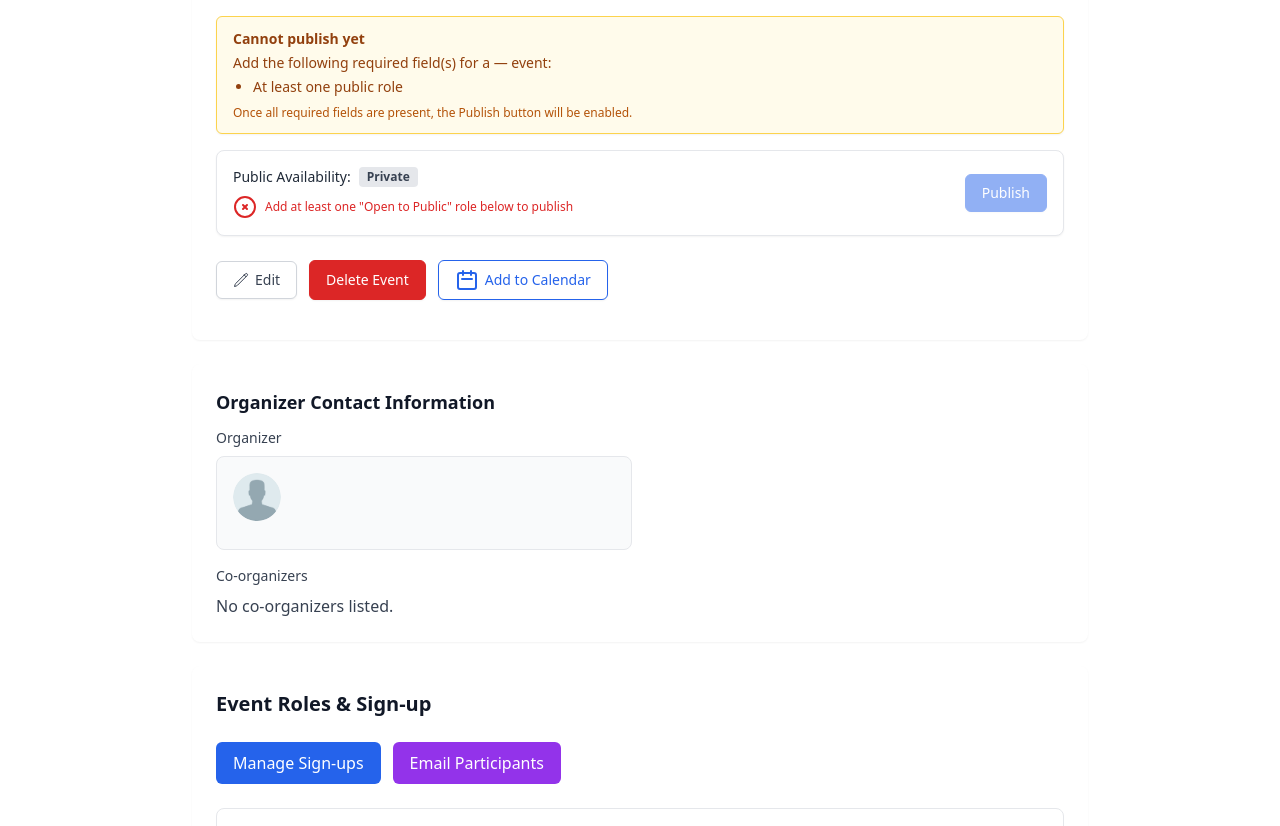
Test: EventDetail - Admin guest actions › edits a guest and updates the displayed name
The width and height of the screenshot is (1280, 826).
Click the button "Manage Sign-ups" at (298, 763), box x1=216 y1=742 x2=381 y2=784
(page scrolled)
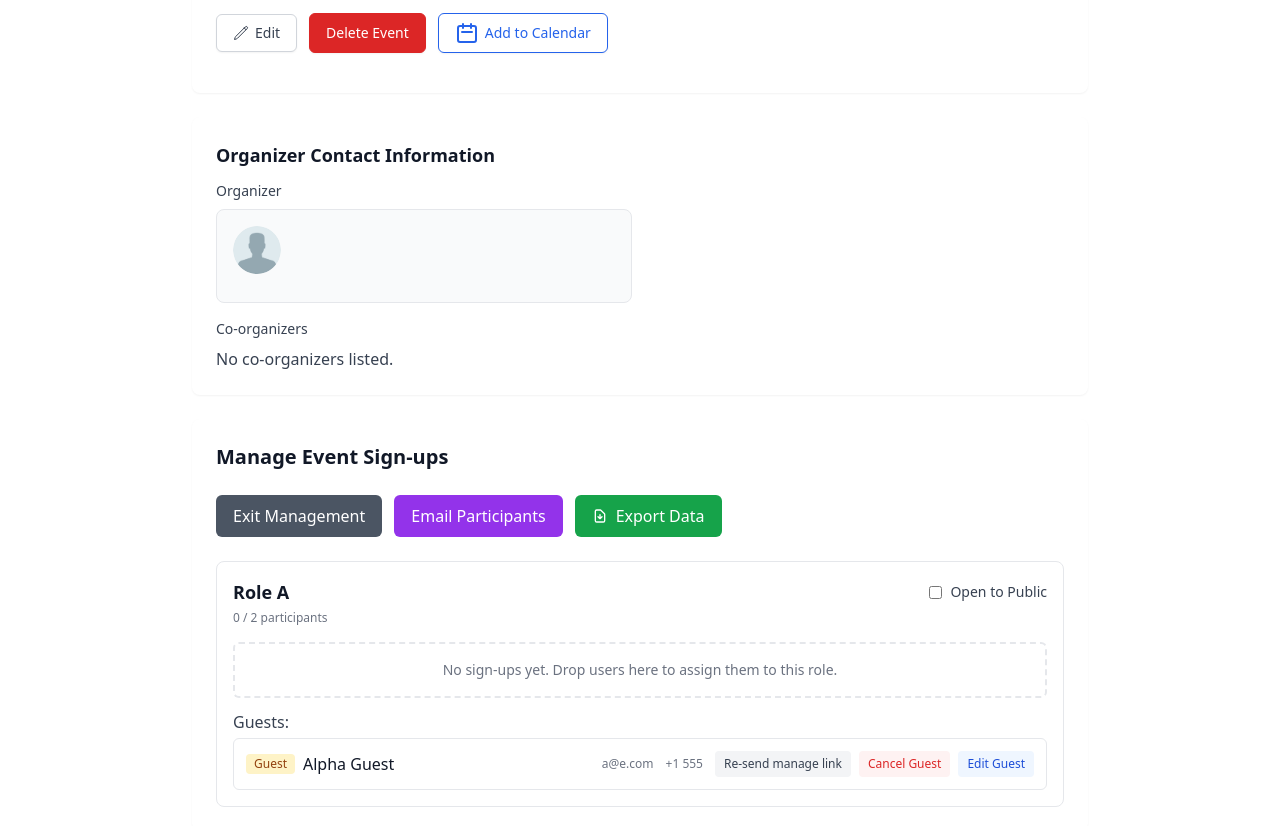
Check: the heading "Guests:" is shown, box x1=233 y1=711 x2=289 y2=733
Check: the text "Alpha Guest" is shown, box x1=303 y1=752 x2=394 y2=776
Click the button "Edit Guest" at (996, 764), box x1=958 y1=751 x2=1034 y2=777
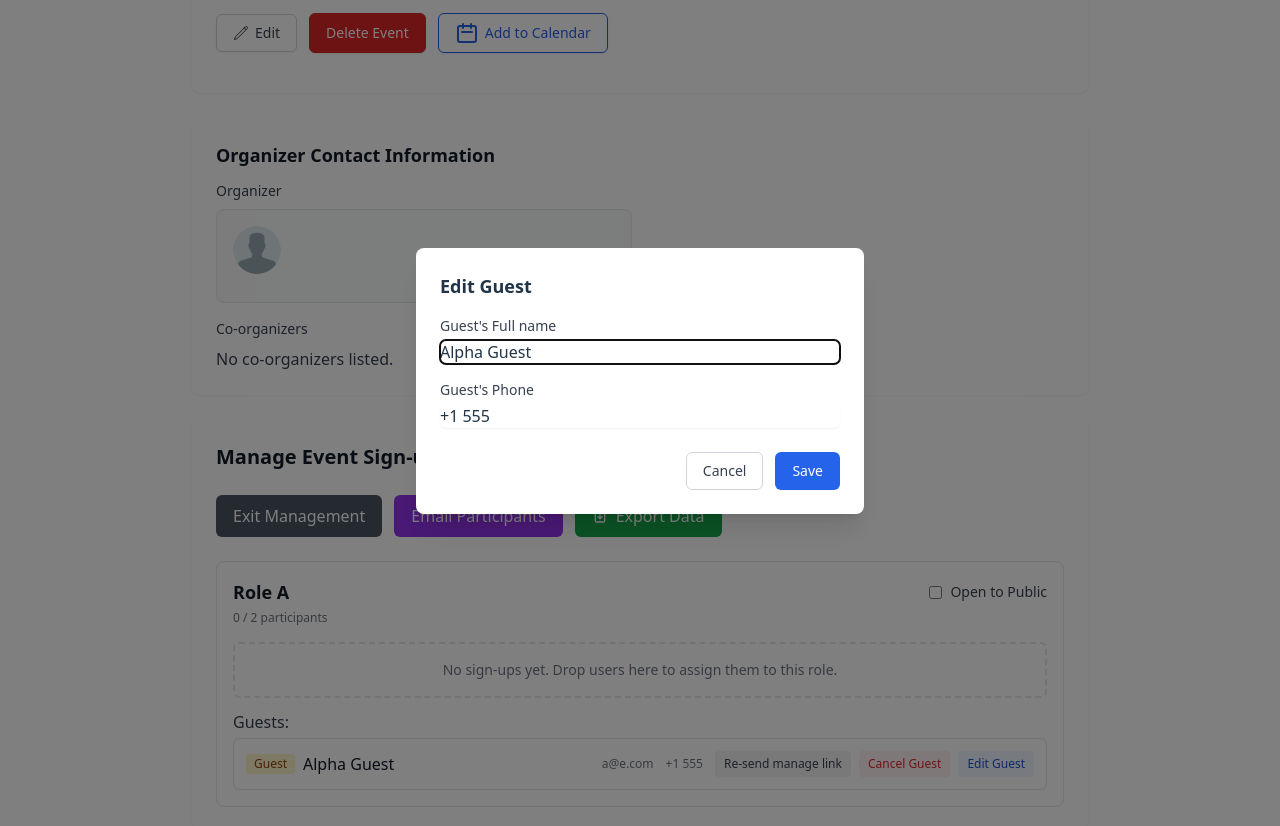
Fill modal inputs
Replace the text in the field labelled "Guest's Full name" with "Bravo Guest" at (640, 352), box x1=440 y1=340 x2=840 y2=364
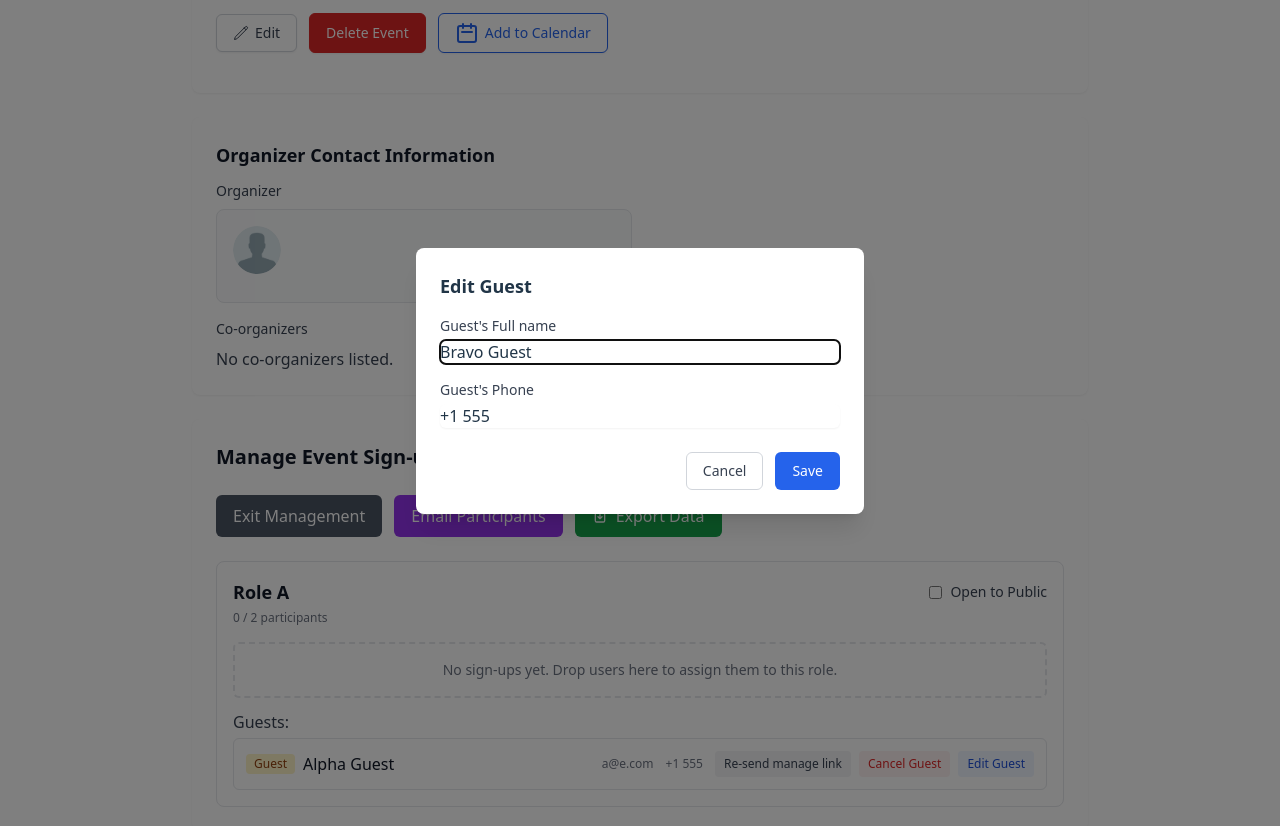
Replace the text in the field labelled "Guest's Phone" with "+1 777" at (640, 416), box x1=440 y1=404 x2=840 y2=428
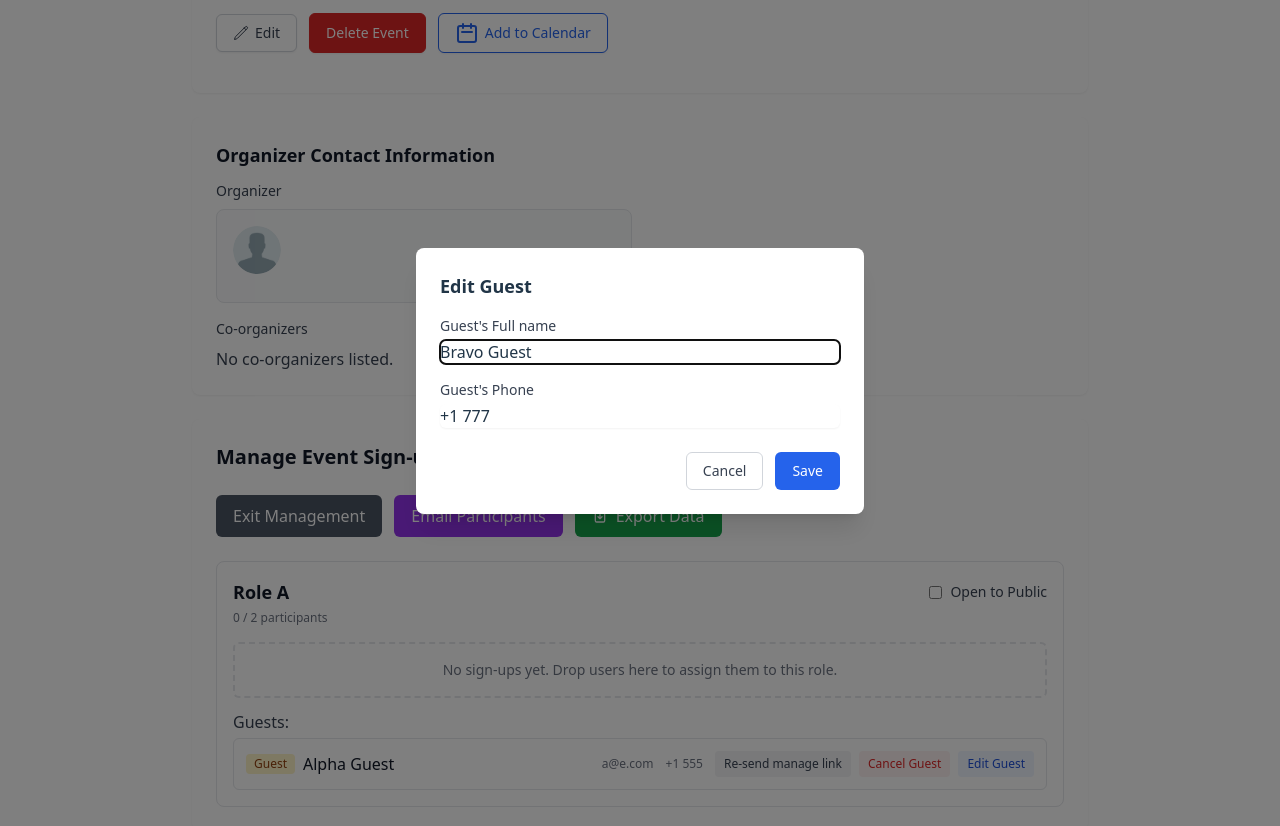
Click the button "Save" at (808, 471), box x1=775 y1=452 x2=840 y2=490
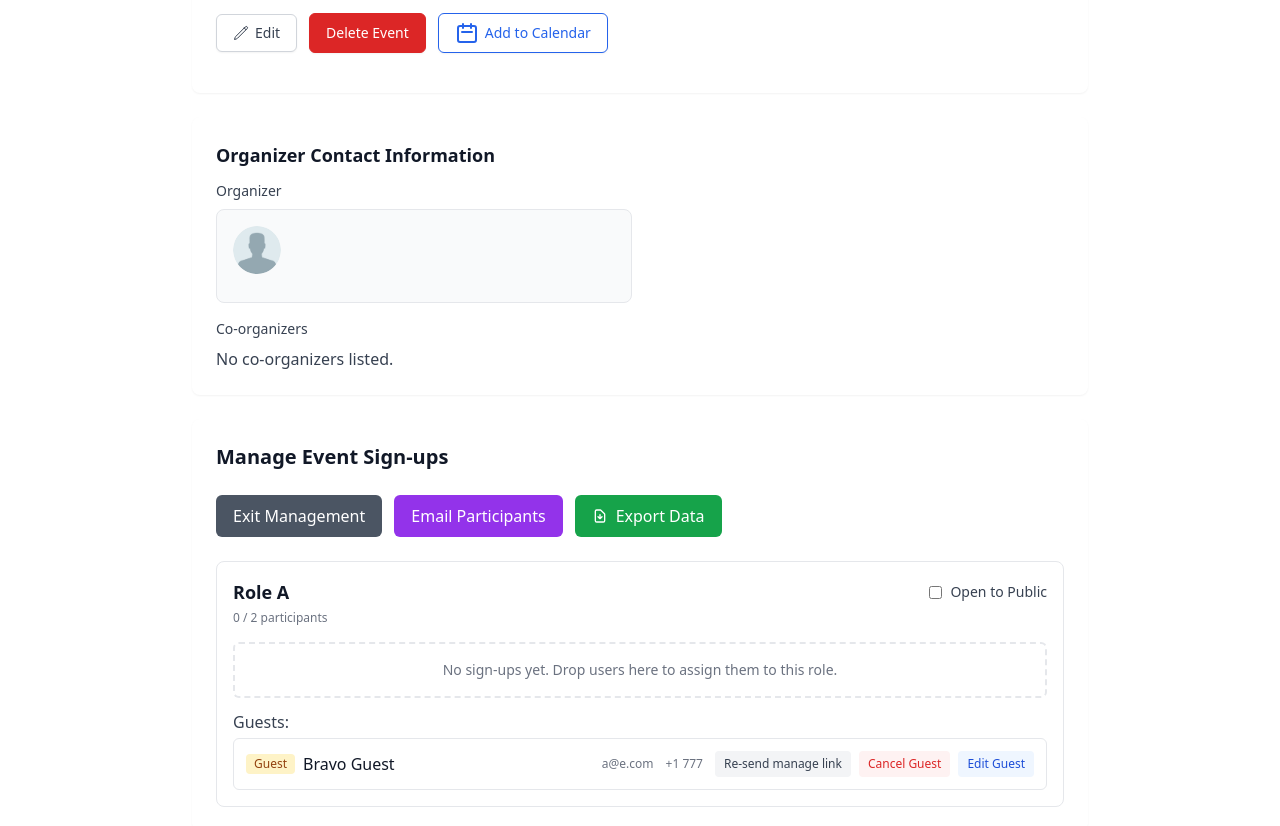
Check: the text "Bravo Guest" is shown, box x1=303 y1=752 x2=395 y2=776
